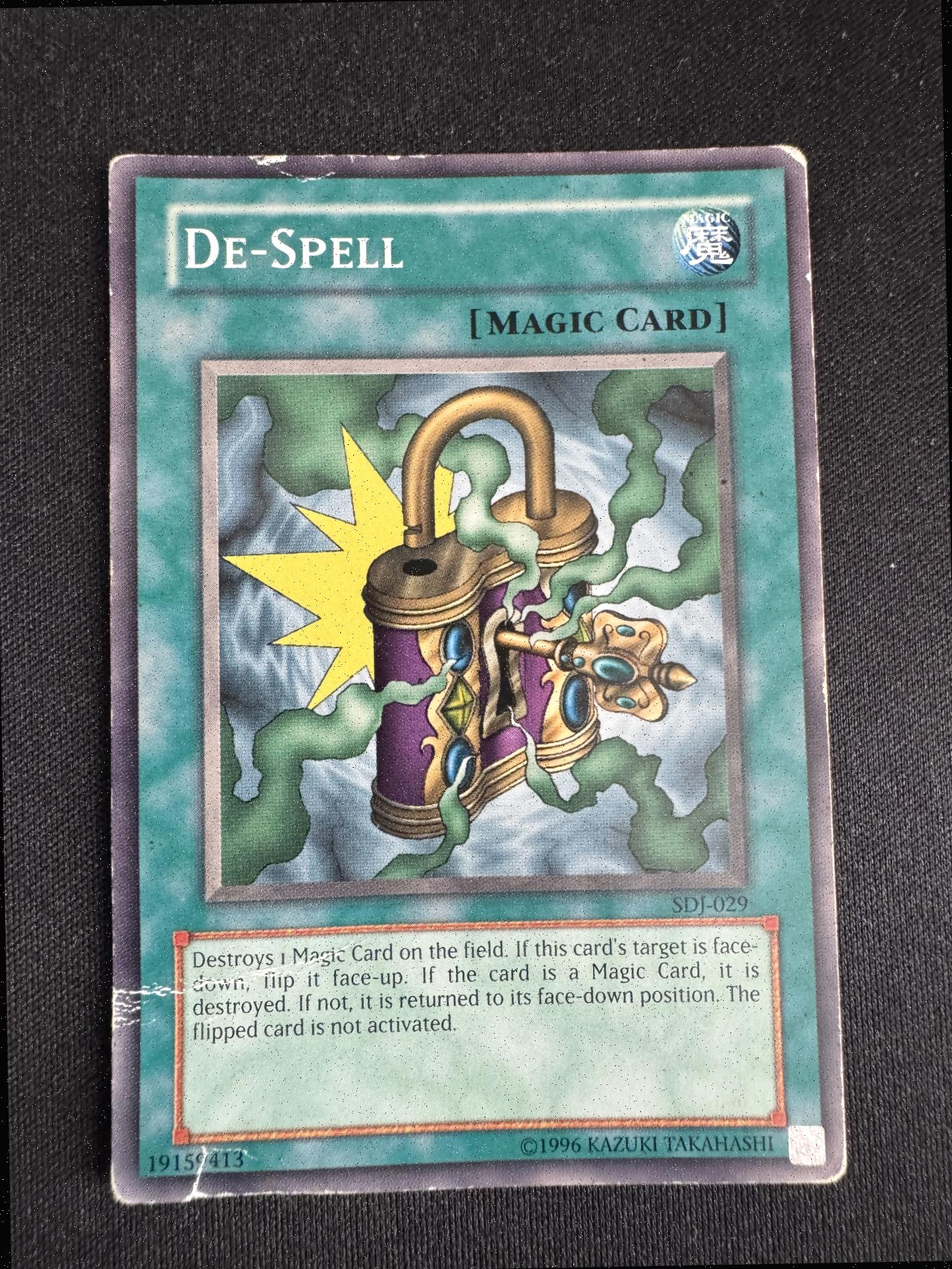card-2UtV: (108, 144, 847, 1205)
